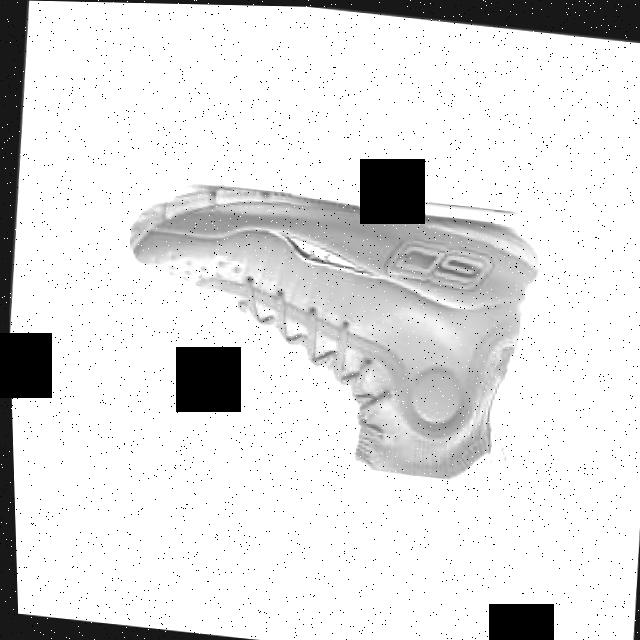shoe: (107, 168, 544, 483), (118, 180, 544, 477)
